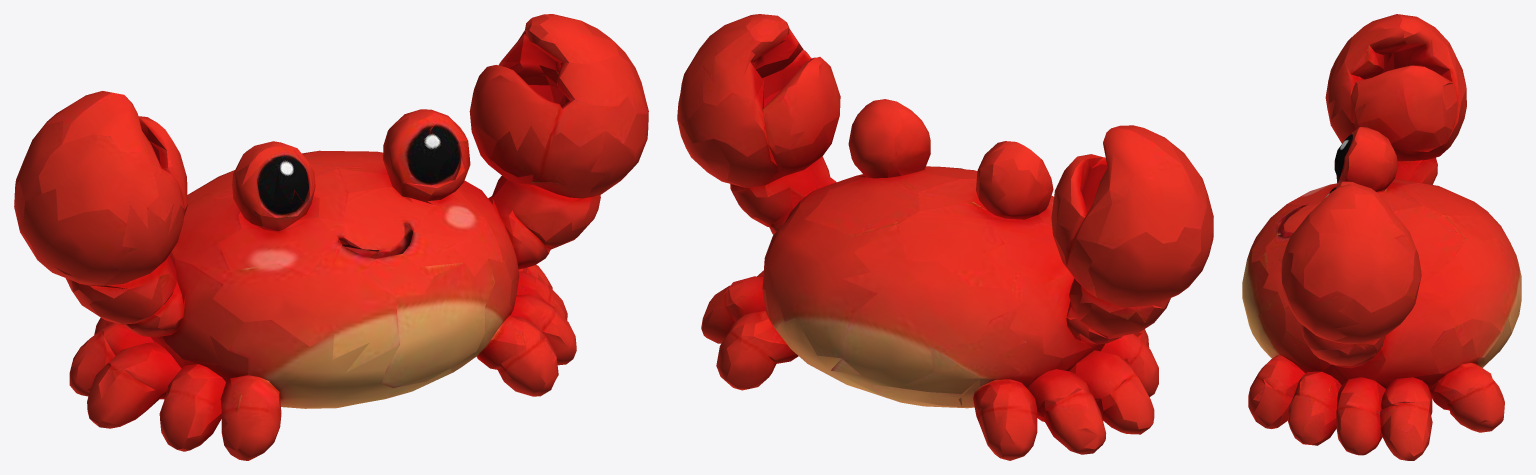
The model's file is strand-krabbe.glb.
3 renders of one model, left to right at view 1: azimuth 30°, elevation 25°; view 2: azimuth 150°, elevation 25°; view 3: azimuth 270°, elevation 25°, orthographic. The views are drawn at different scales.
Bounding box in the file's own units: 1.9 × 1.03 × 0.9633.
1 material, 1 textured.
